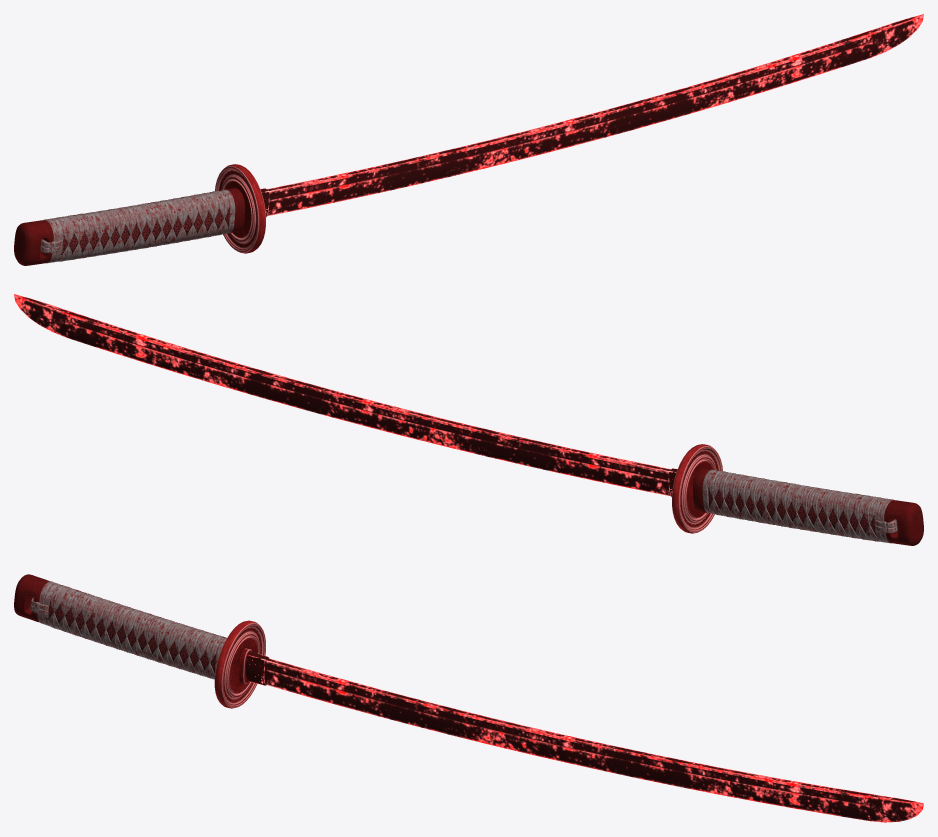
File: BloodKatana.glb
3 views of the same model, one above another, from view 1: azimuth 30°, elevation 25°; view 2: azimuth 150°, elevation 25°; view 3: azimuth 330°, elevation 25° (orthographic).
Visible parts, largest first — view 1: polySurface2; view 2: polySurface2; view 3: polySurface2.
Part boxes in pixels (x1,y1,x2,y2): polySurface2: [14, 14, 923, 265]; polySurface2: [14, 294, 923, 545]; polySurface2: [14, 574, 923, 822].
Size of the model in its own units: 16.84 by 1.46 by 1.46.
Materials: 4 (4 with a texture image).
